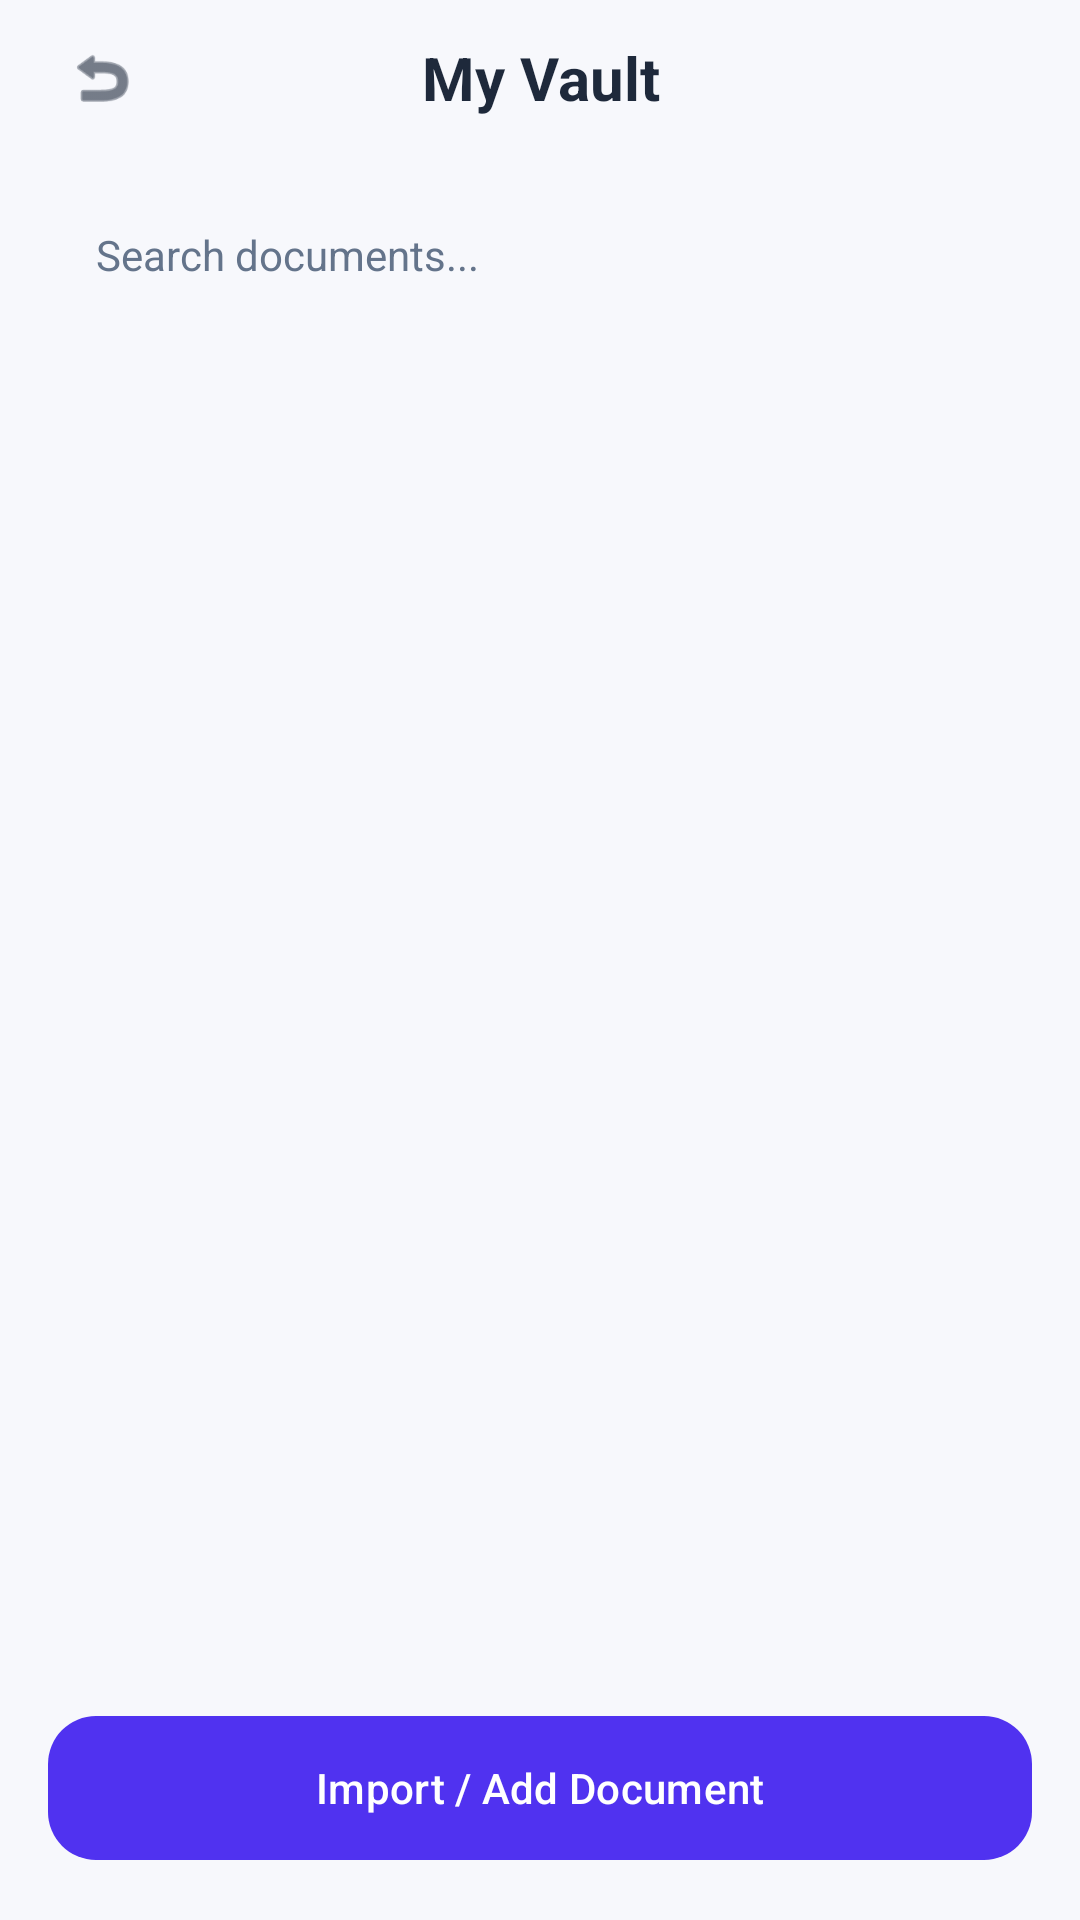

Named icons in this screenshot (1080w x 1920h) and their centers, (x=x, y=y):
Back: (x=103, y=78)
